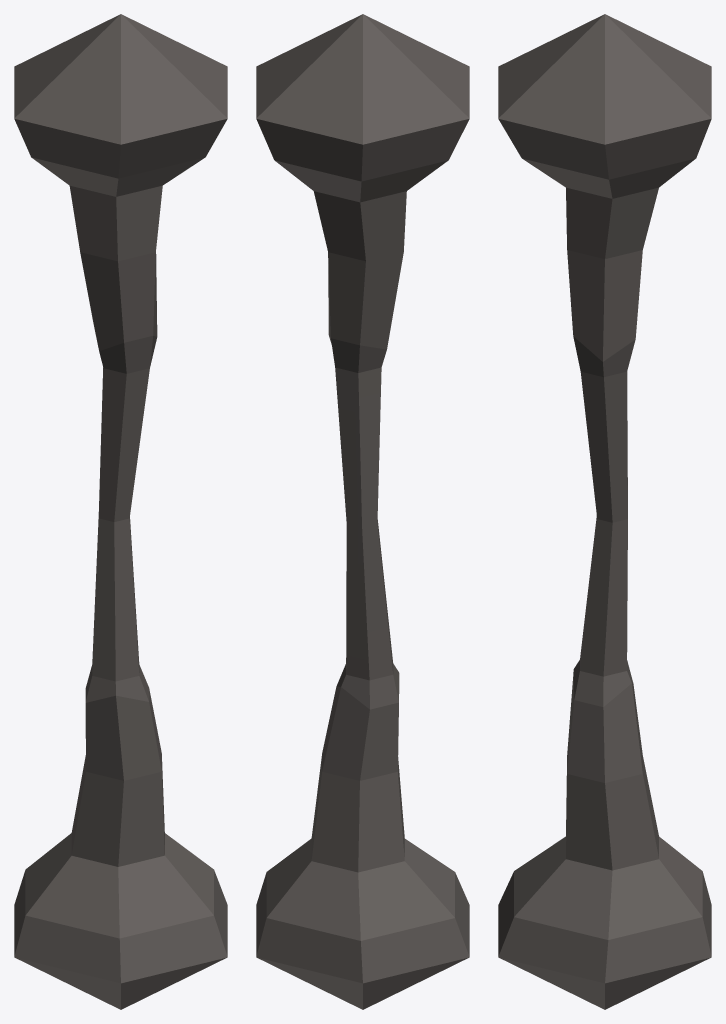
File: SM_Env_Stalagmite_02.fbx
3 renders of one model, left to right at view 1: azimuth 30°, elevation 25°; view 2: azimuth 150°, elevation 25°; view 3: azimuth 270°, elevation 25°, orthographic.
Visible parts, largest first — view 1: SM_Env_Stalagmite_02; view 2: SM_Env_Stalagmite_02; view 3: SM_Env_Stalagmite_02.
Part boxes in pixels (x1,y1,x2,y2): SM_Env_Stalagmite_02: (14,14,227,1009); SM_Env_Stalagmite_02: (256,14,469,1009); SM_Env_Stalagmite_02: (498,14,711,1009).
Bounding box in the file's own units: 0.4536 × 2.02 × 0.3928.
